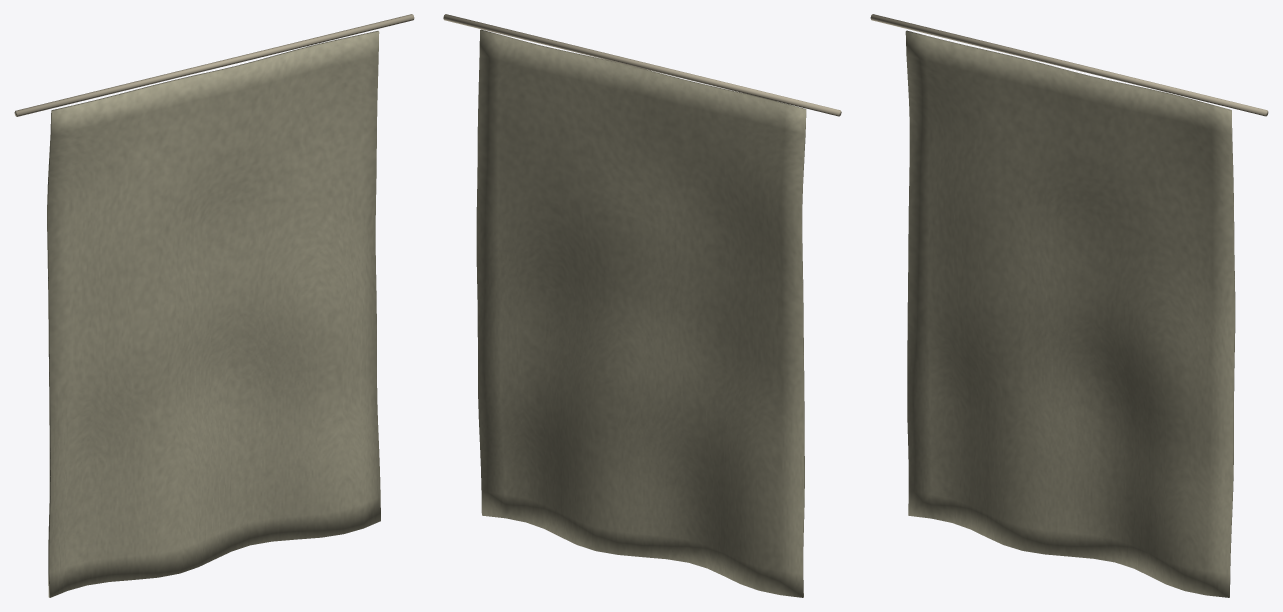
File: lake_tarp.glb
3 views of the same model, side by side, from view 1: azimuth 30°, elevation 25°; view 2: azimuth 150°, elevation 25°; view 3: azimuth 330°, elevation 25° (orthographic).
Visible parts, largest first — view 1: lake_tarp; view 2: lake_tarp; view 3: lake_tarp.
Boxes of the visible parts, <box> form: lake_tarp: <box>14,14,414,597</box>; lake_tarp: <box>443,14,841,597</box>; lake_tarp: <box>870,14,1268,597</box>.
Size of the model in its own units: 1.7 by 2.03 by 0.0981.
Materials: 1 (1 with a texture image).
